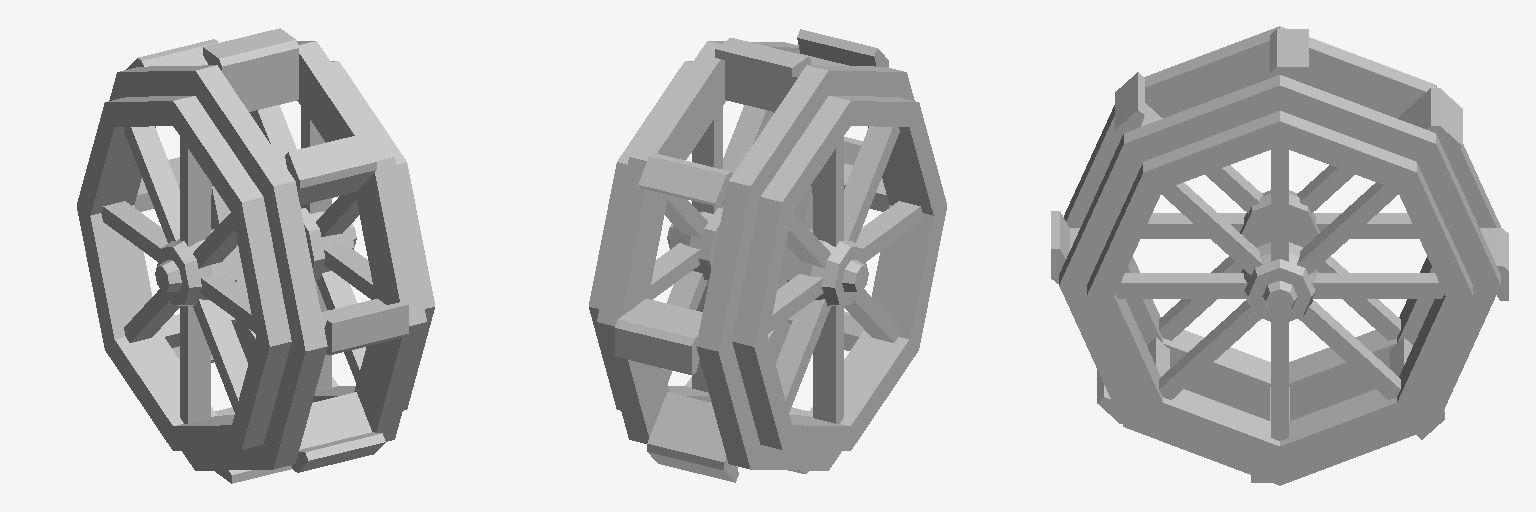
Rendered from watermill.obj.
3 renders of one model, left to right at view 1: azimuth 30°, elevation 25°; view 2: azimuth 150°, elevation 25°; view 3: azimuth 270°, elevation 25°, orthographic.
Visible parts, largest first — view 1: watermill; view 2: watermill; view 3: watermill.
Boxes of the visible parts, x1,y1,x2,y2 form: watermill: [77, 28, 434, 483]; watermill: [589, 29, 946, 482]; watermill: [1051, 26, 1508, 485].
Size of the model in its own units: 0.85 by 1.8 by 1.8.